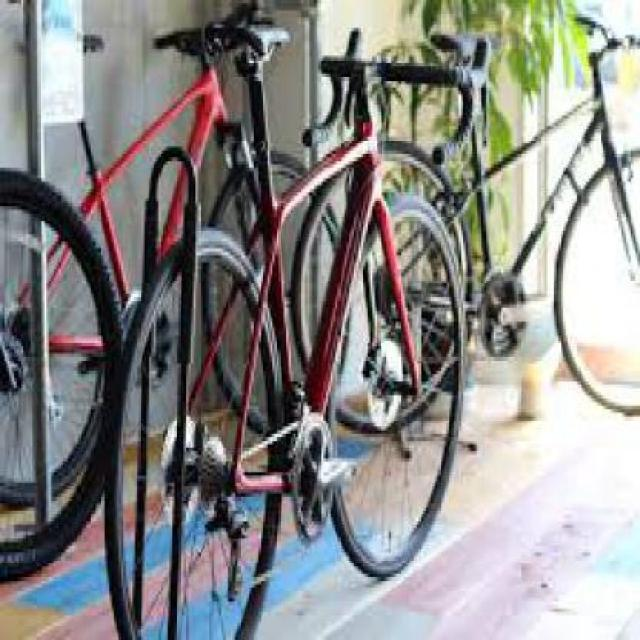bicycle: (105, 10, 547, 636), (303, 5, 637, 448)
